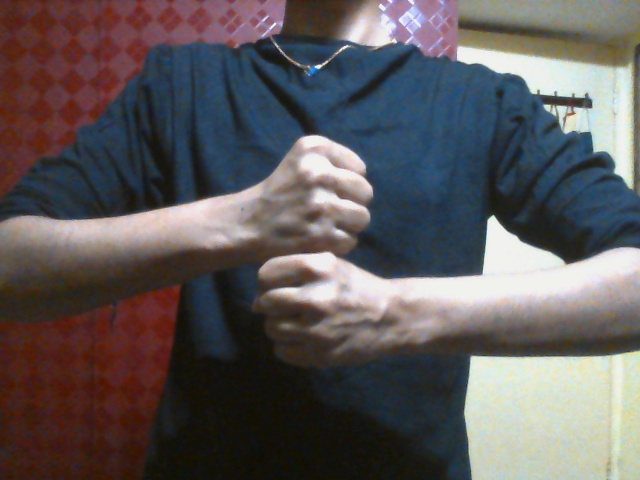G: (247, 134, 405, 371)
